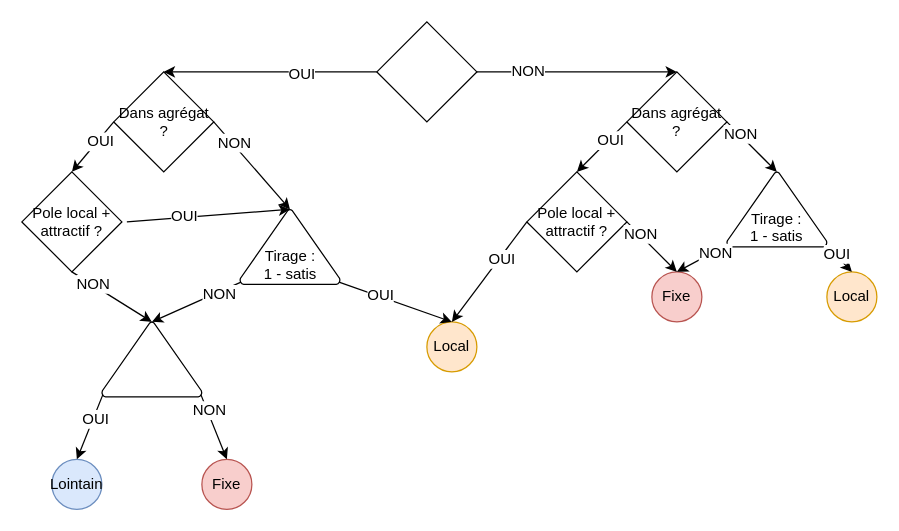
This 899x531 diagram has some shape labels left out. The shapes that lost their labels are listed below. From the top down, each one's centre as x and y in pixels, then its label:
the point at 426,71: FP Mobile ?
the point at 151,359: Tirage : 0.2 * (1-satis)
